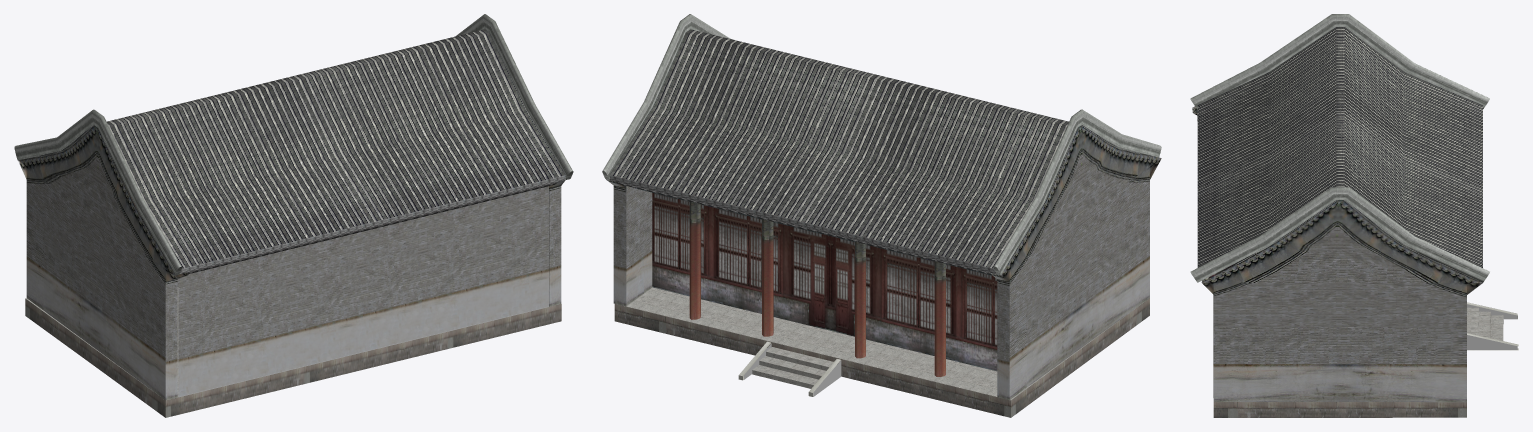
Rendered from 单个房子.FBX.
3 views of the same model, side by side, from view 1: azimuth 30°, elevation 25°; view 2: azimuth 150°, elevation 25°; view 3: azimuth 270°, elevation 25° (orthographic). The views are drawn at different scales.
Parts seen in each view (by area): view 1: Group237; view 2: Group237; view 3: Group237.
Boxes of the visible parts, left/top/right/bottom form: Group237: left=14, top=14, right=573, bottom=417; Group237: left=602, top=14, right=1161, bottom=417; Group237: left=1190, top=14, right=1518, bottom=417.
Size of the model in its own units: 569 by 346 by 449.
